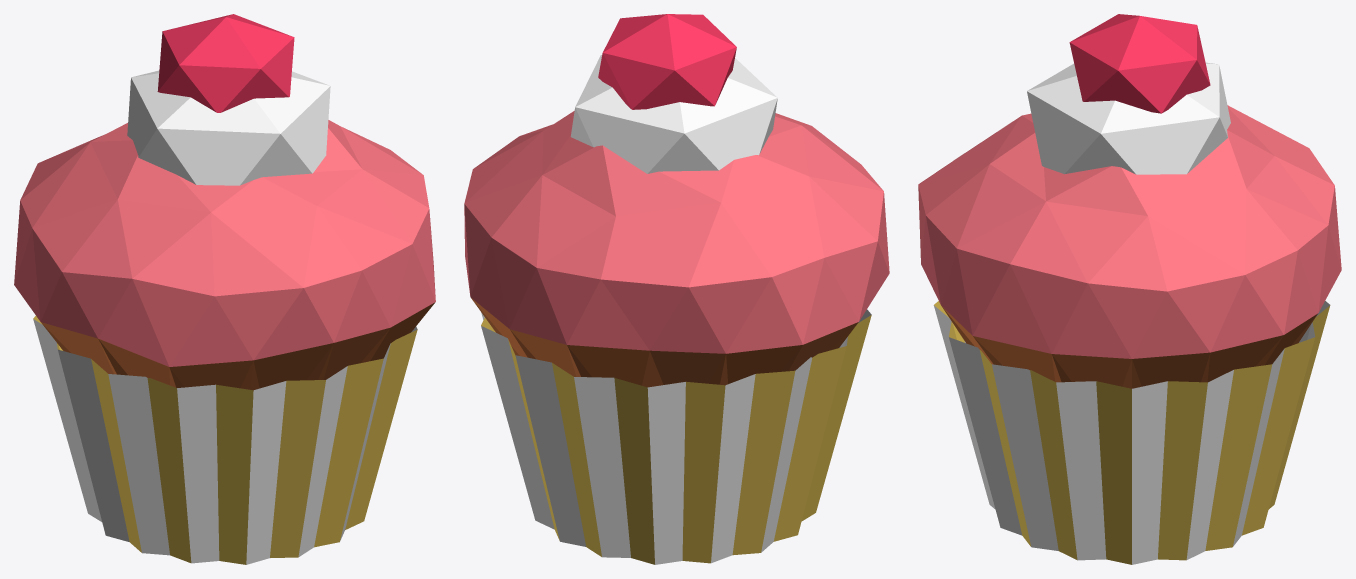
File: muffin_berry.fbx
3 renders of one model, left to right at view 1: azimuth 30°, elevation 25°; view 2: azimuth 150°, elevation 25°; view 3: azimuth 270°, elevation 25°, orthographic.
Parts seen in each view (by area): view 1: muffin_berry; view 2: muffin_berry; view 3: muffin_berry.
Part boxes in pixels (x1,y1,x2,y2): muffin_berry: [14, 14, 435, 564]; muffin_berry: [464, 14, 889, 564]; muffin_berry: [918, 14, 1341, 564].
Bounding box in the file's own units: 6.48 × 8.23 × 6.44.
